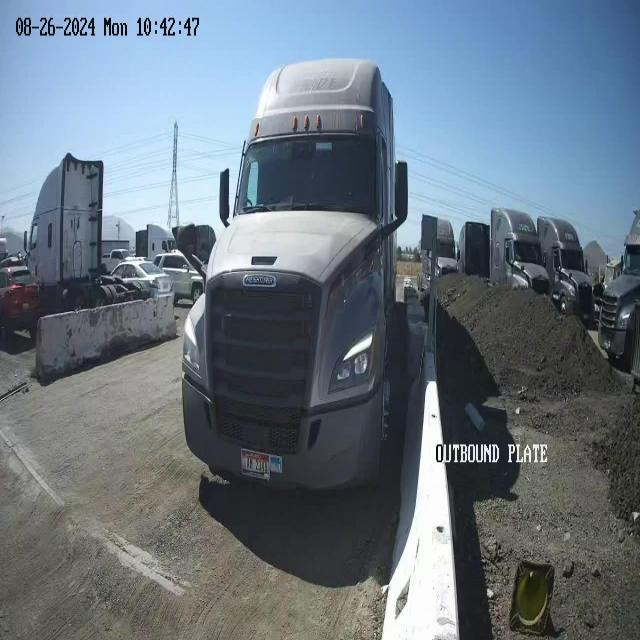TRUCK_OUT: (181, 57, 409, 496)
